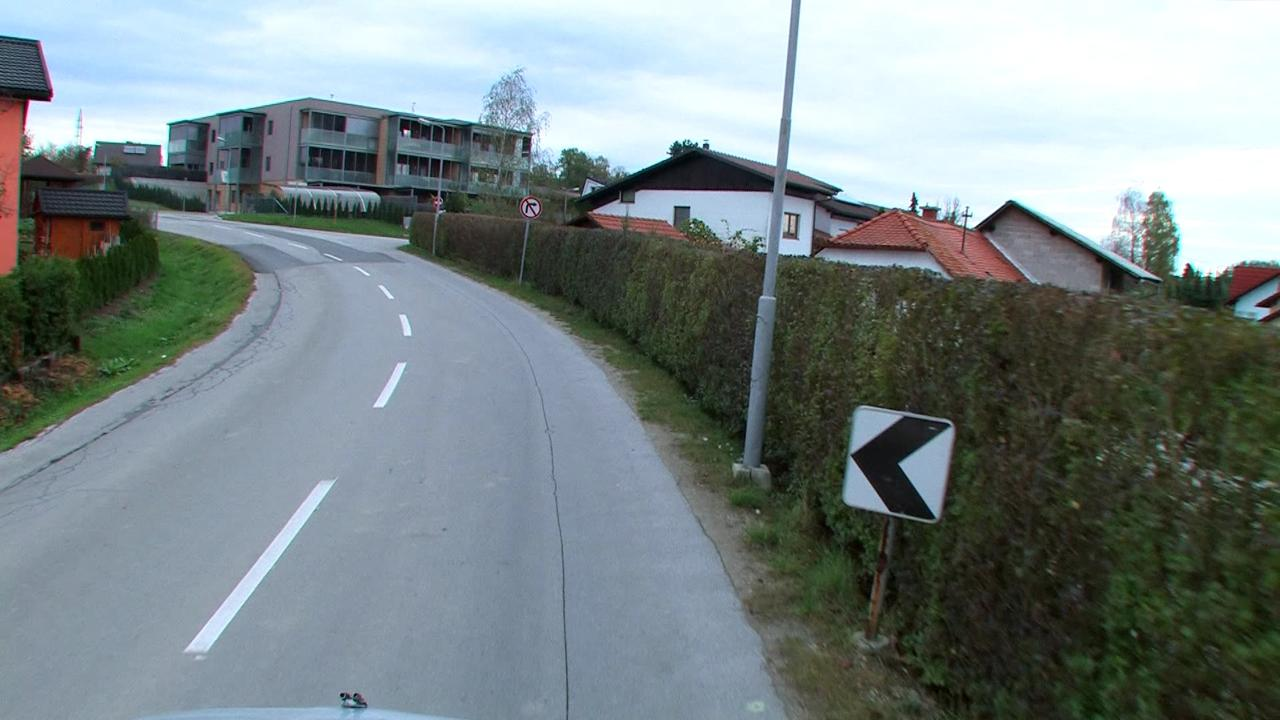Round: (520, 196, 544, 220)
